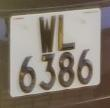2: (35, 13, 59, 54)
3: (38, 52, 57, 94)
6: (76, 44, 98, 91), (17, 54, 39, 95)
8: (56, 50, 77, 89)
L: (55, 11, 79, 52)
